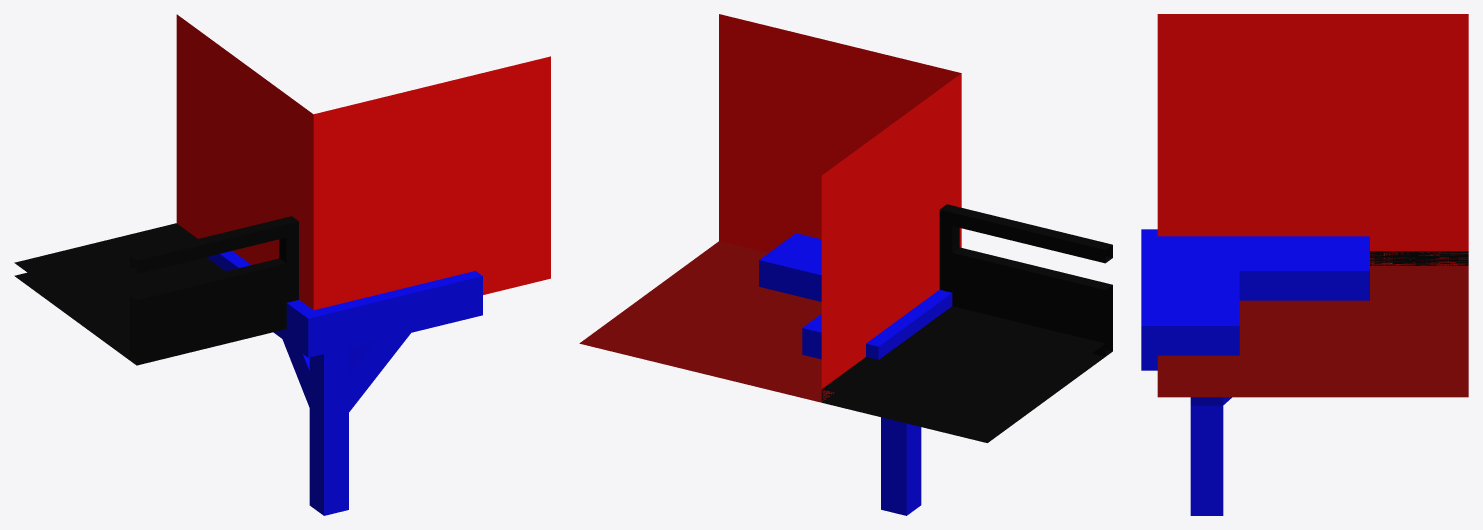
Rendered from BigStrut_E_E_A_E_P_E_E_E_None.fbx.
The picture shows the model from 3 angles, left to right: view 1: azimuth 30°, elevation 25°; view 2: azimuth 150°, elevation 25°; view 3: azimuth 270°, elevation 25°; orthographic projection. The views are drawn at different scales.
Visible parts, largest first — view 1: BigStrut_E_E_A_E_P_E_E_E_None; view 2: BigStrut_E_E_A_E_P_E_E_E_None; view 3: BigStrut_E_E_A_E_P_E_E_E_None.
Part boxes in pixels (x1,y1,x2,y2): BigStrut_E_E_A_E_P_E_E_E_None: (14,14,550,515); BigStrut_E_E_A_E_P_E_E_E_None: (579,14,1112,515); BigStrut_E_E_A_E_P_E_E_E_None: (1141,14,1468,515).
Bounding box in the file's own units: 100 × 100 × 62.5.
